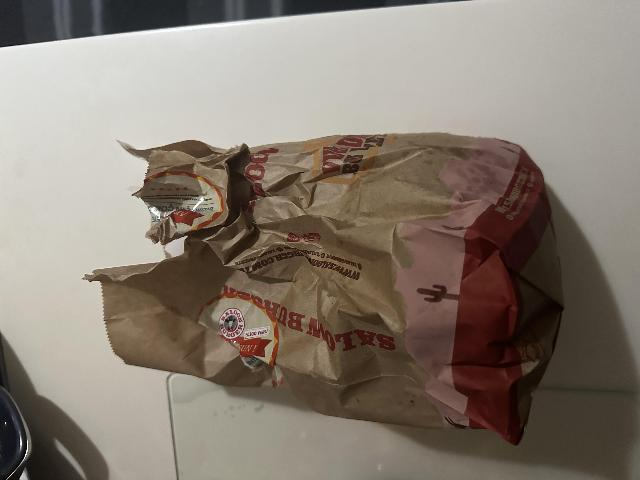Kagit: (87, 106, 579, 443)
